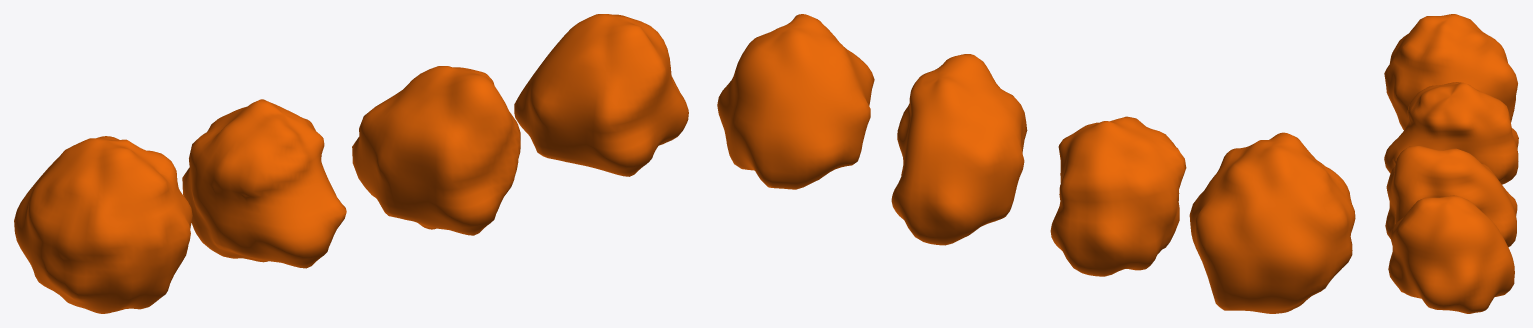
The model's file is Meatballs.fbx.
3 renders of one model, left to right at view 1: azimuth 30°, elevation 25°; view 2: azimuth 150°, elevation 25°; view 3: azimuth 270°, elevation 25°, orthographic. The views are drawn at different scales.
Visible parts, largest first — view 1: Meatball.007, Meatball.005, Meatball.004, Meatball.006; view 2: Meatball.007, Meatball.006, Meatball.005, Meatball.004; view 3: Meatball.006, Meatball.007, Meatball.004, Meatball.005.
Boxes of the visible parts, <box> form: Meatball.007: <box>14,136,192,313</box>; Meatball.005: <box>352,66,520,235</box>; Meatball.004: <box>182,99,346,268</box>; Meatball.006: <box>514,14,688,176</box>; Meatball.007: <box>1189,132,1355,313</box>; Meatball.006: <box>717,14,874,189</box>; Meatball.005: <box>891,54,1027,245</box>; Meatball.004: <box>1050,116,1186,276</box>; Meatball.006: <box>1388,195,1514,313</box>; Meatball.007: <box>1384,14,1517,129</box>; Meatball.004: <box>1384,82,1518,184</box>; Meatball.005: <box>1385,146,1517,247</box>.
Size of the model in its own units: 41.66 by 10.52 by 10.22.
